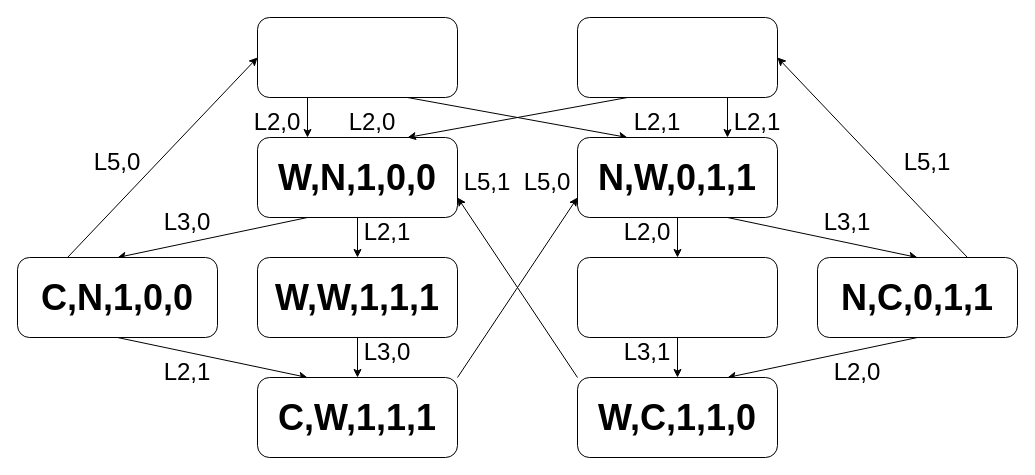
Image size: 1035x475. Some labels were removed from this diagram. The centre of each missing label's shape, as x and y in pixels:
"N,N,0 ,0,1" belongs at (x=677, y=57).
"N,N,0,0,0" belongs at (x=357, y=57).
"W,W,1 ,1,0" belongs at (x=677, y=297).
